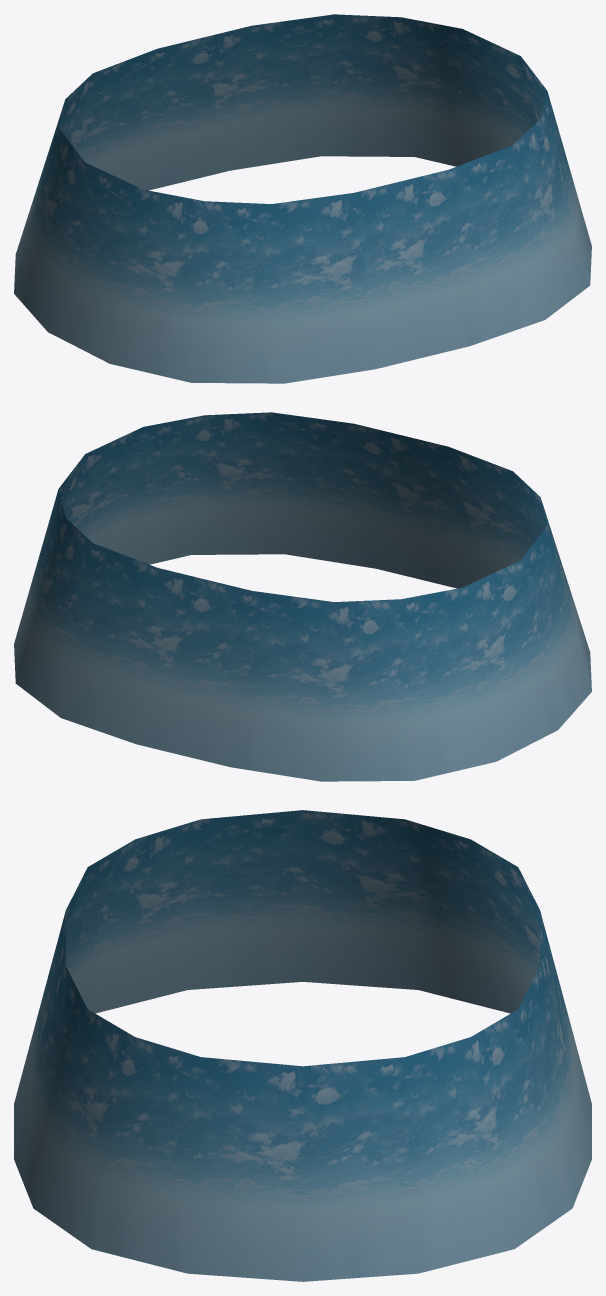
The model's file is battle_skybox01.FBX.
3 views of the same model, one above another, from view 1: azimuth 30°, elevation 25°; view 2: azimuth 150°, elevation 25°; view 3: azimuth 270°, elevation 25° (orthographic). The views are drawn at different scales.
Visible parts, largest first — view 1: battle_skybox01; view 2: battle_skybox01; view 3: battle_skybox01.
Part boxes in pixels (bbox=[...]): battle_skybox01: bbox=[14, 14, 591, 383]; battle_skybox01: bbox=[14, 412, 591, 781]; battle_skybox01: bbox=[14, 810, 591, 1281].
Size of the model in its own units: 107897 by 32486 by 87847.
